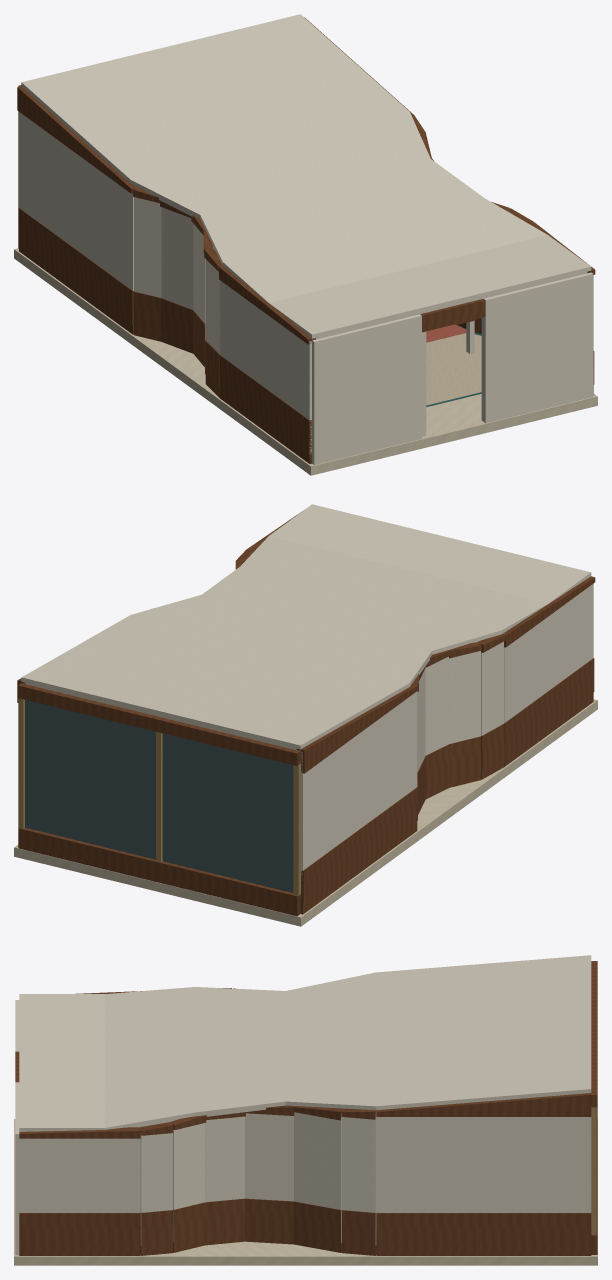
The model's file is shell.glb.
The picture shows the model from 3 angles, top to bottom: view 1: azimuth 30°, elevation 25°; view 2: azimuth 150°, elevation 25°; view 3: azimuth 270°, elevation 25°; orthographic projection.
Parts seen in each view (by area): view 1: NG_Runtime_ivory_enamel, NG_Runtime_warm_walnut, NG_Runtime_warm_stone, NG_Runtime_oatmeal_weave; view 2: NG_Runtime_ivory_enamel, NG_Runtime_NG_SourceDirectionalPrivacy_NOT_RUNTIME_ACCEPTED, NG_Runtime_warm_walnut, NG_Runtime_warm_stone, NG_Runtime_champagne_metal; view 3: NG_Runtime_ivory_enamel, NG_Runtime_warm_walnut, NG_Runtime_warm_stone, NG_Runtime_champagne_metal.
Part boxes in pixels (x1=…): NG_Runtime_ivory_enamel: x1=19, y1=14, x2=593, y2=464; NG_Runtime_warm_walnut: x1=17, y1=17, x2=595, y2=463; NG_Runtime_warm_stone: x1=14, y1=248, x2=597, y2=475; NG_Runtime_oatmeal_weave: x1=213, y1=248, x2=481, y2=405; NG_Runtime_ivory_enamel: x1=21, y1=504, x2=593, y2=885; NG_Runtime_NG_SourceDirectionalPrivacy_NOT_RUNTIME_ACCEPTED: x1=25, y1=700, x2=293, y2=892; NG_Runtime_warm_walnut: x1=17, y1=511, x2=595, y2=916; NG_Runtime_warm_stone: x1=14, y1=699, x2=597, y2=926; NG_Runtime_champagne_metal: x1=18, y1=698, x2=300, y2=895; NG_Runtime_ivory_enamel: x1=15, y1=955, x2=591, y2=1254; NG_Runtime_warm_walnut: x1=15, y1=961, x2=597, y2=1255; NG_Runtime_warm_stone: x1=14, y1=1119, x2=597, y2=1265; NG_Runtime_champagne_metal: x1=591, y1=1107, x2=596, y2=1235.
Size of the model in its own units: 7.2 by 4.26 by 12.9.
Materials: 9 (7 with a texture image).
